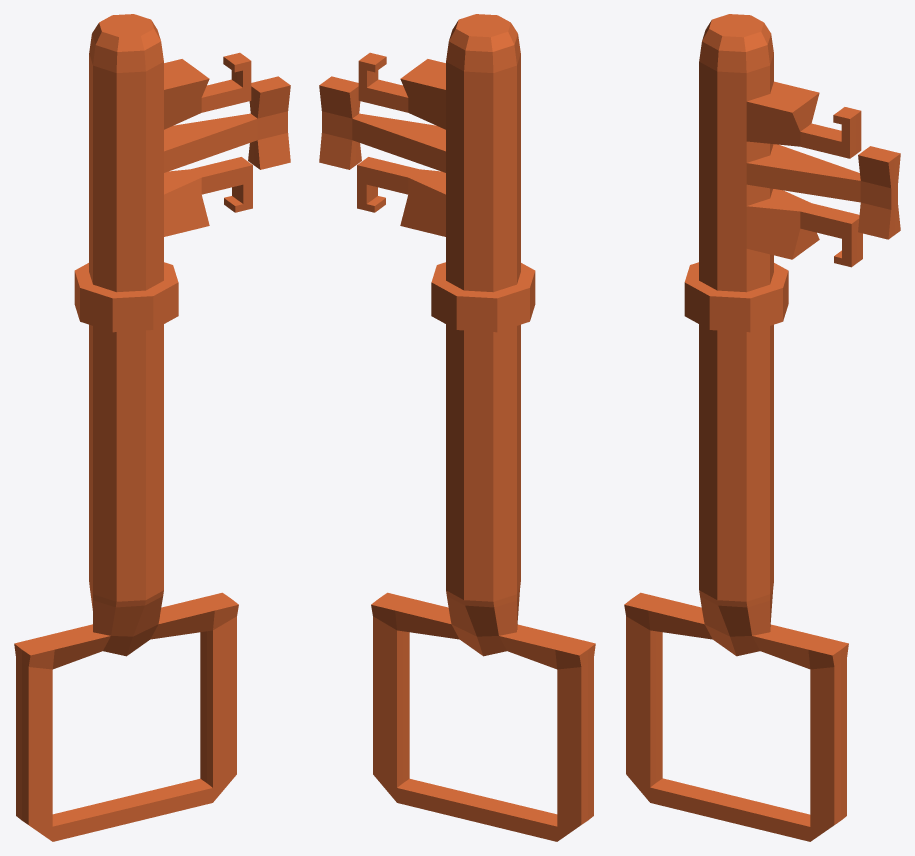
File: Chave_2.fbx
The picture shows the model from 3 angles, left to right: view 1: azimuth 30°, elevation 25°; view 2: azimuth 150°, elevation 25°; view 3: azimuth 330°, elevation 25°; orthographic projection.
Parts seen in each view (by area): view 1: Cilindro; view 2: Cilindro; view 3: Cilindro.
Boxes of the visible parts, x1,y1,x2,y2 form: Cilindro: (14, 14, 290, 841); Cilindro: (319, 14, 595, 841); Cilindro: (624, 14, 900, 841).
Bounding box in the file's own units: 94.83 × 273 × 33.62.
